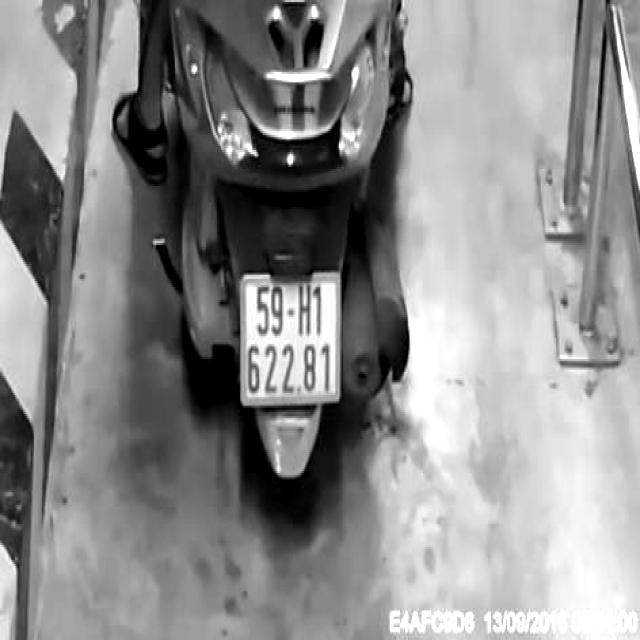license_plate: (236, 268, 346, 412)
